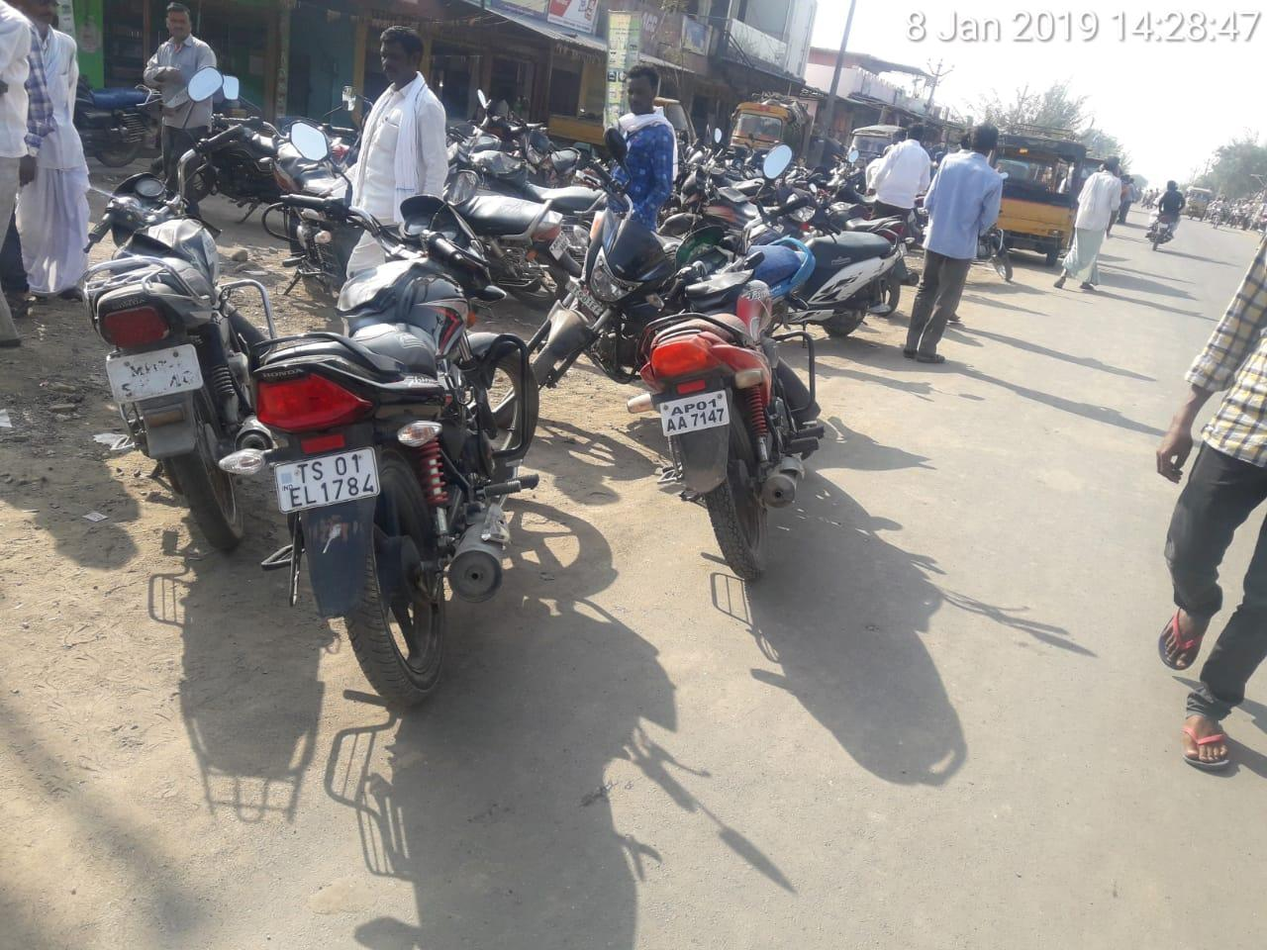plate: (273, 445, 390, 514), (656, 389, 739, 439)
